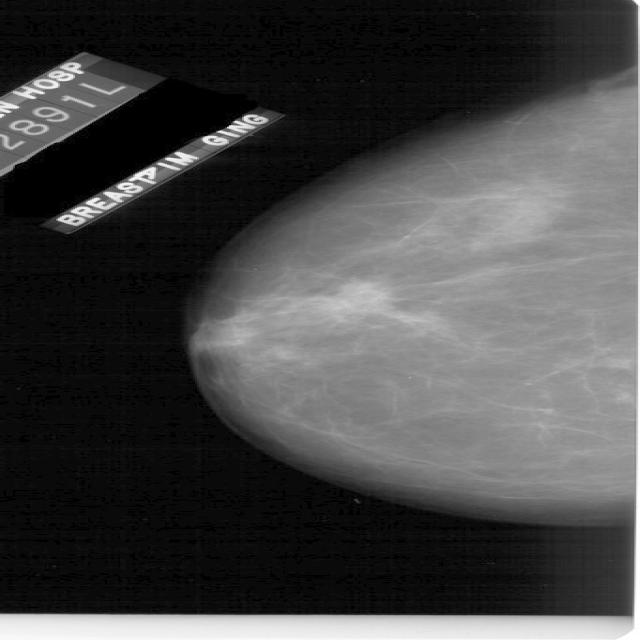tumour: (306, 282, 413, 320)
